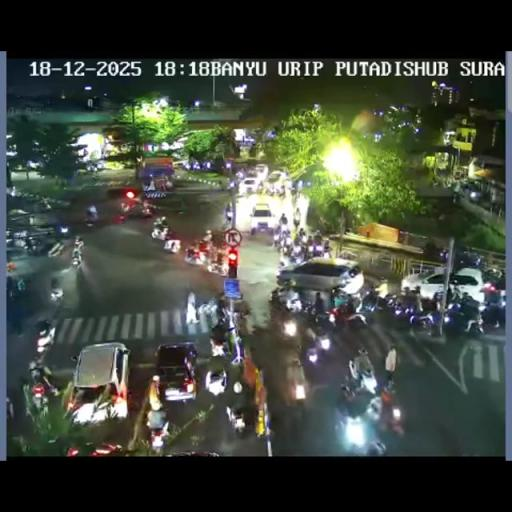Car: (67, 342, 131, 426), (276, 257, 363, 294), (402, 266, 483, 302), (154, 342, 198, 402), (140, 158, 174, 194), (285, 360, 306, 405), (249, 202, 275, 234), (204, 367, 227, 395), (239, 178, 261, 194), (268, 170, 286, 186), (253, 164, 269, 178)
Motorcycle: (337, 414, 385, 455), (337, 383, 373, 422), (442, 300, 479, 337), (184, 291, 218, 330), (328, 300, 369, 331), (378, 388, 403, 435), (406, 303, 440, 334), (304, 323, 332, 360), (478, 298, 506, 330), (374, 291, 406, 317), (352, 347, 374, 384), (270, 285, 294, 313), (207, 246, 229, 276), (226, 404, 246, 434), (358, 288, 380, 314), (30, 380, 48, 410), (149, 424, 169, 450), (36, 324, 55, 351), (6, 274, 26, 299), (232, 296, 251, 322), (279, 248, 302, 269), (185, 243, 205, 265), (215, 294, 229, 324), (162, 232, 181, 254), (26, 235, 46, 255), (209, 336, 227, 358), (47, 239, 66, 258), (282, 316, 298, 338), (332, 288, 349, 308), (381, 374, 397, 395), (310, 241, 328, 259), (462, 250, 482, 266), (150, 225, 168, 241), (83, 210, 98, 228), (448, 285, 462, 304), (412, 288, 423, 312), (140, 200, 154, 218), (433, 290, 444, 312), (50, 286, 63, 304), (70, 249, 82, 267), (56, 223, 70, 238), (273, 229, 284, 248), (6, 397, 14, 419), (39, 196, 52, 209), (282, 176, 294, 190), (293, 206, 301, 226), (119, 200, 130, 214), (298, 230, 308, 245), (74, 236, 84, 251), (113, 213, 126, 224), (278, 213, 288, 227), (438, 248, 448, 261), (202, 229, 212, 242), (282, 228, 291, 242), (164, 175, 172, 189), (266, 185, 275, 197), (225, 203, 231, 220), (86, 162, 96, 172), (278, 186, 286, 198), (96, 160, 105, 170)
